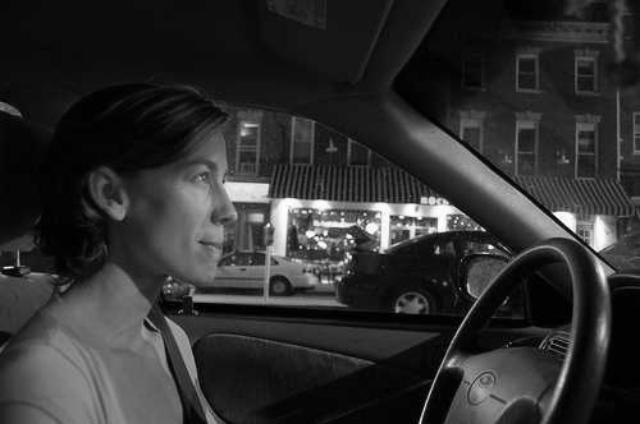SafeDriving: (182, 164, 218, 188)
Seatbelt: (141, 303, 211, 424)
